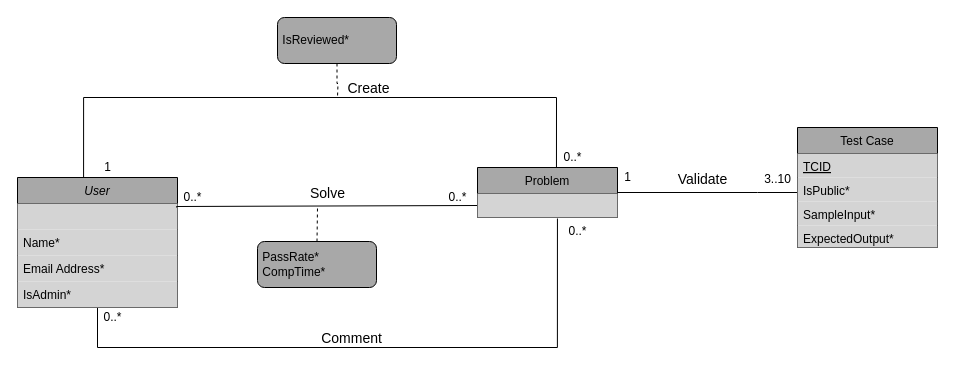
Some shapes in this 955 by 366 pixel diagram are drawn without their labels. Here are the shapes that lost their labels. From the top down, the centre of each, then its label:
At (97,216): "Username".
At (547,205): "ProblemID".
